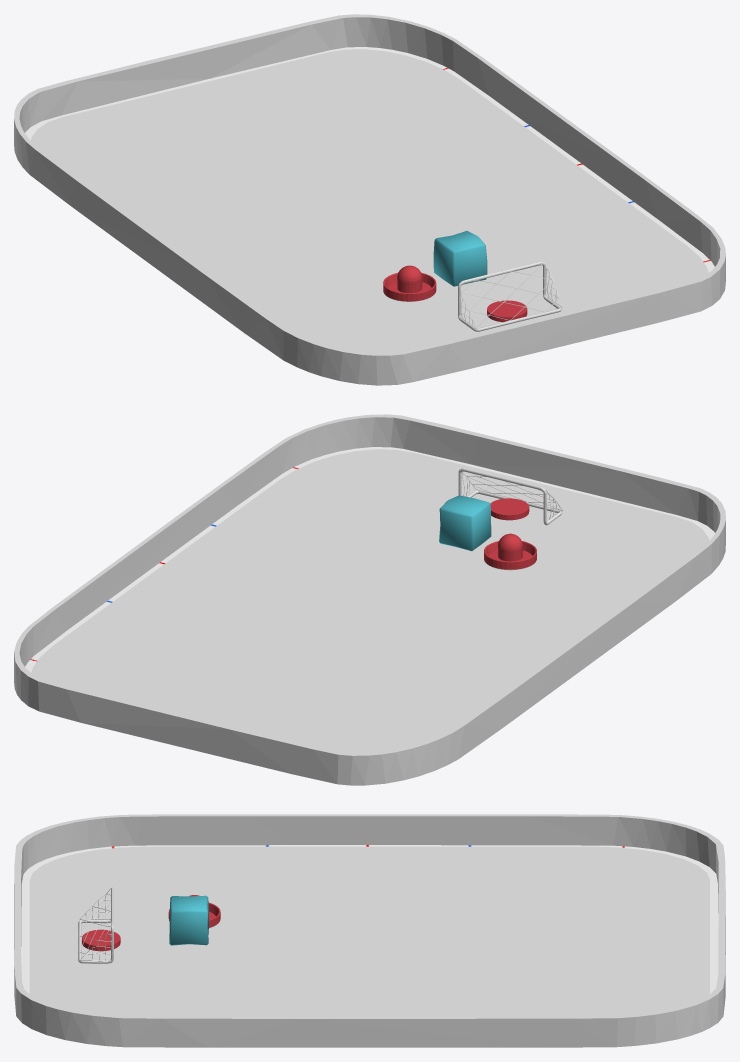
The model's file is air-hockey-old.glb.
3 renders of one model, top to bottom at view 1: azimuth 30°, elevation 25°; view 2: azimuth 150°, elevation 25°; view 3: azimuth 270°, elevation 25°, orthographic. The views are drawn at different scales.
Visible parts, largest first — view 1: Ice, wall, terrain, icecube, pusher, net, goal, palet; view 2: Ice, wall, terrain, icecube, pusher, goal, palet, net; view 3: Ice, wall, terrain, icecube, net, palet, goal.
Part boxes in pixels (bbox=[...]): Ice: bbox=[31, 49, 708, 352]; wall: bbox=[14, 14, 725, 385]; terrain: bbox=[25, 47, 714, 272]; icecube: bbox=[433, 231, 487, 286]; pusher: bbox=[383, 265, 436, 301]; net: bbox=[458, 263, 562, 329]; goal: bbox=[458, 261, 561, 331]; palet: bbox=[487, 300, 527, 322]; Ice: bbox=[31, 449, 709, 752]; wall: bbox=[14, 414, 725, 785]; terrain: bbox=[25, 447, 714, 672]; icecube: bbox=[439, 495, 491, 551]; pusher: bbox=[484, 533, 536, 569]; goal: bbox=[458, 468, 561, 525]; palet: bbox=[490, 498, 529, 520]; net: bbox=[461, 472, 562, 521]; Ice: bbox=[29, 846, 709, 1016]; wall: bbox=[14, 814, 725, 1047]; terrain: bbox=[21, 845, 718, 993]; icecube: bbox=[169, 895, 208, 945]; net: bbox=[79, 888, 112, 961]; palet: bbox=[82, 929, 120, 951]; goal: bbox=[78, 887, 113, 963].
Bounding box in the file's own units: 6.17 × 0.5977 × 9.07.
Materials: 6 (1 with a texture image).
